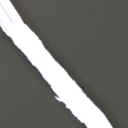crackTip: (1, 25, 88, 128)
